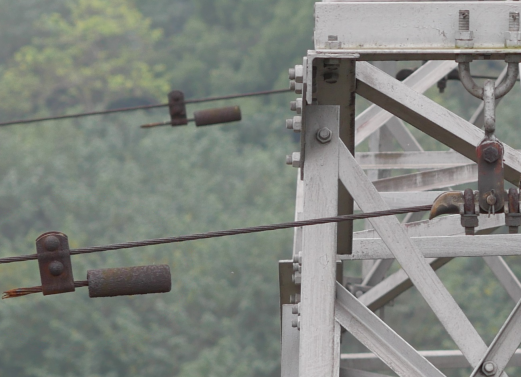damper_defect: (1, 224, 174, 303), (135, 87, 244, 131)
